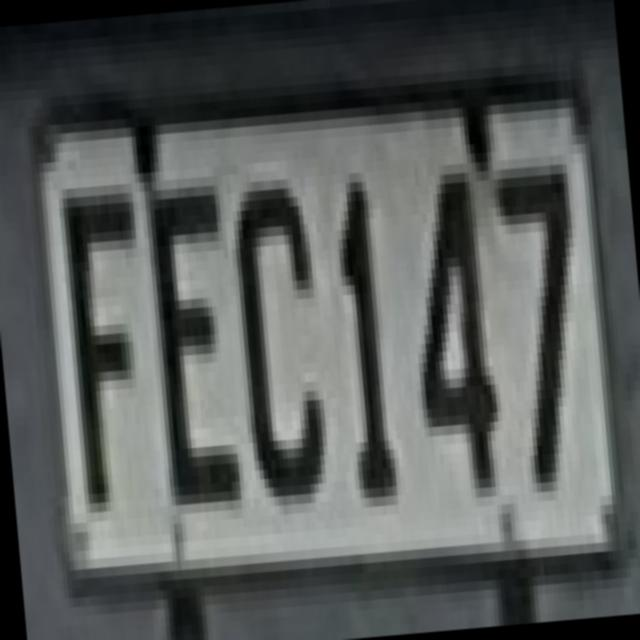1: (297, 152, 413, 501)
4: (375, 143, 508, 494)
7: (473, 136, 602, 486)
C: (211, 149, 335, 499)
E: (128, 156, 250, 506)
F: (39, 164, 159, 506)
